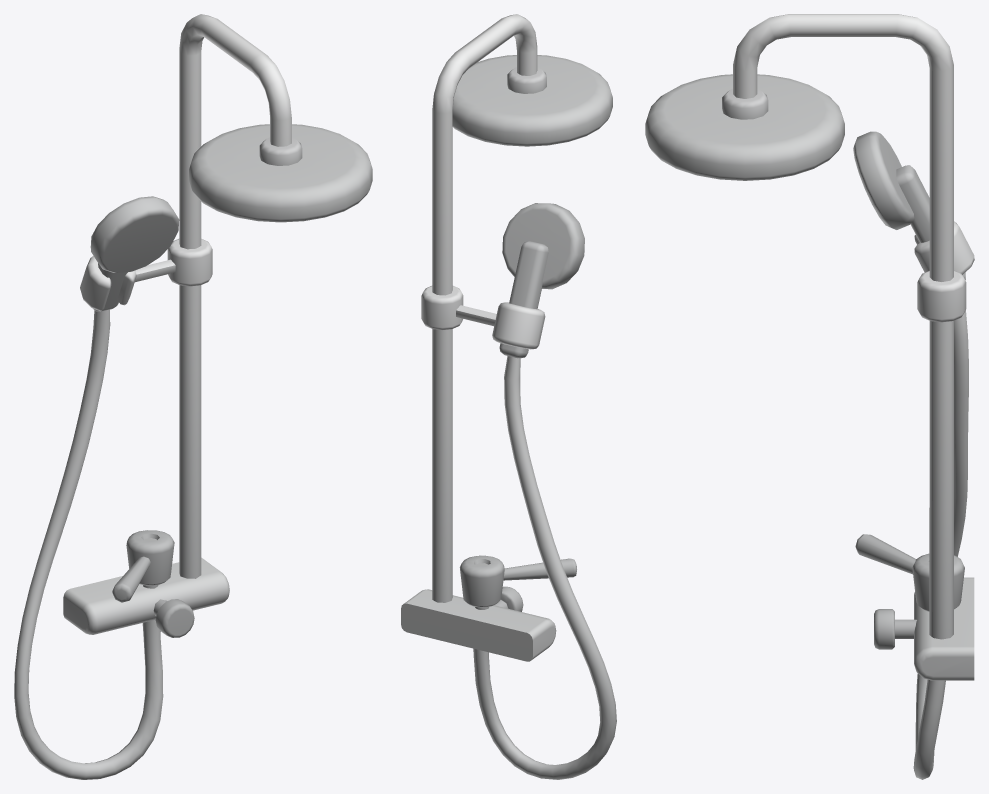
The model's file is Mixer_06.glb.
3 renders of one model, left to right at view 1: azimuth 30°, elevation 25°; view 2: azimuth 150°, elevation 25°; view 3: azimuth 270°, elevation 25°, orthographic. The views are drawn at different scales.
Visible parts, largest first — view 1: Mixer_06; view 2: Mixer_06; view 3: Mixer_06.
Part boxes in pixels (bbox=[...]): Mixer_06: bbox=[14, 14, 372, 779]; Mixer_06: bbox=[401, 14, 616, 779]; Mixer_06: bbox=[645, 14, 974, 779].
Bounding box in the file's own units: 0.5643 × 1.55 × 0.5715.
1 material, 1 textured.
